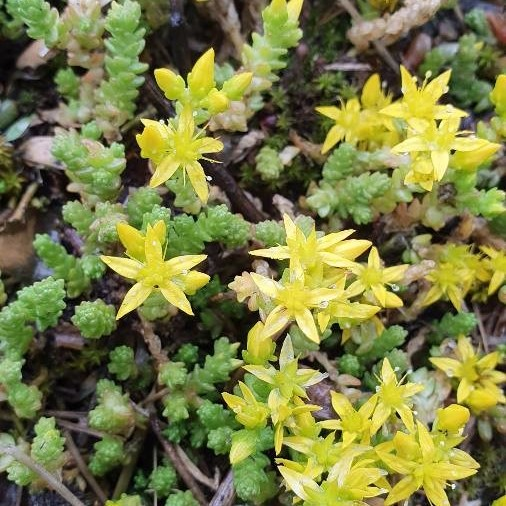obstacle: (124, 55, 471, 462)
